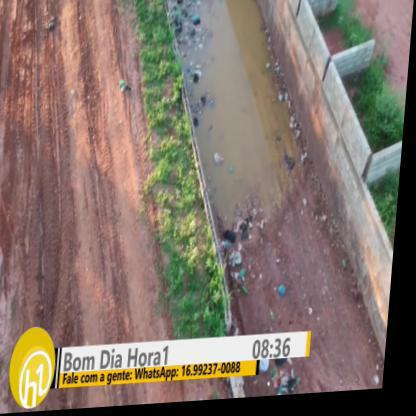agua: (196, 0, 304, 202)
